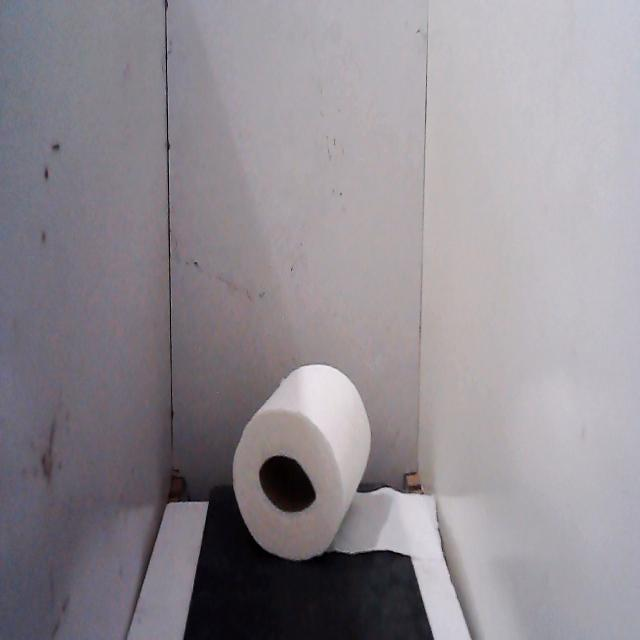papel: (228, 355, 446, 566)
